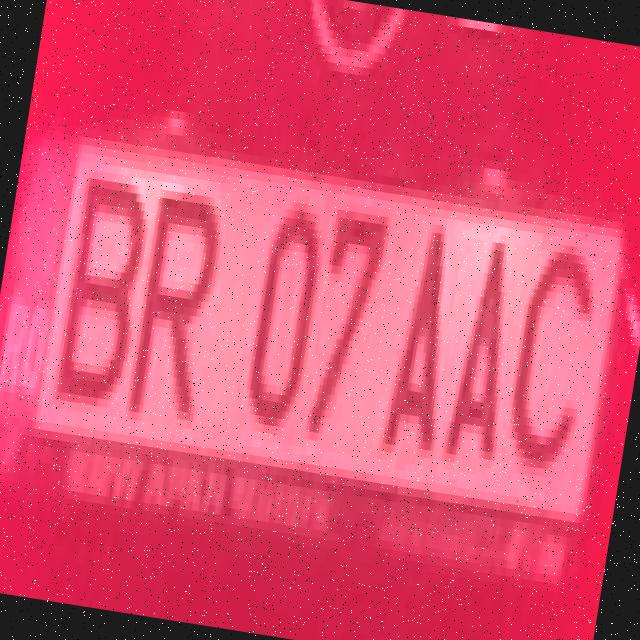EU: (0, 113, 634, 585)
Romanie: (0, 130, 81, 441)
